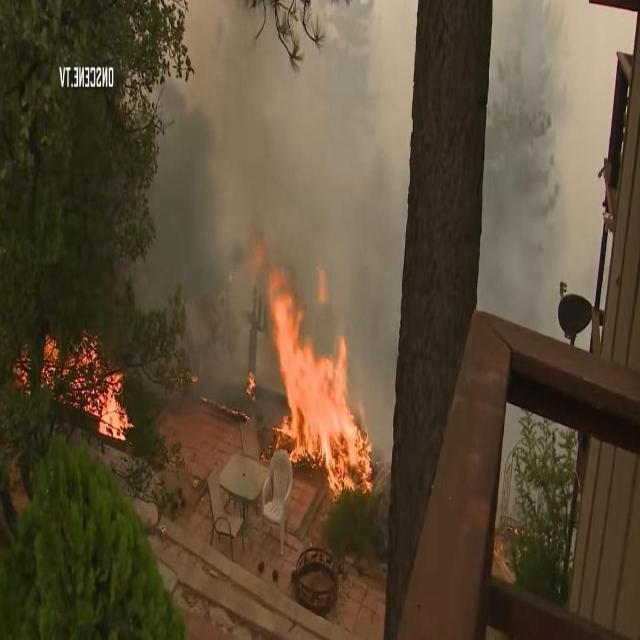Fire: (265, 240, 378, 504), (10, 316, 134, 445)
